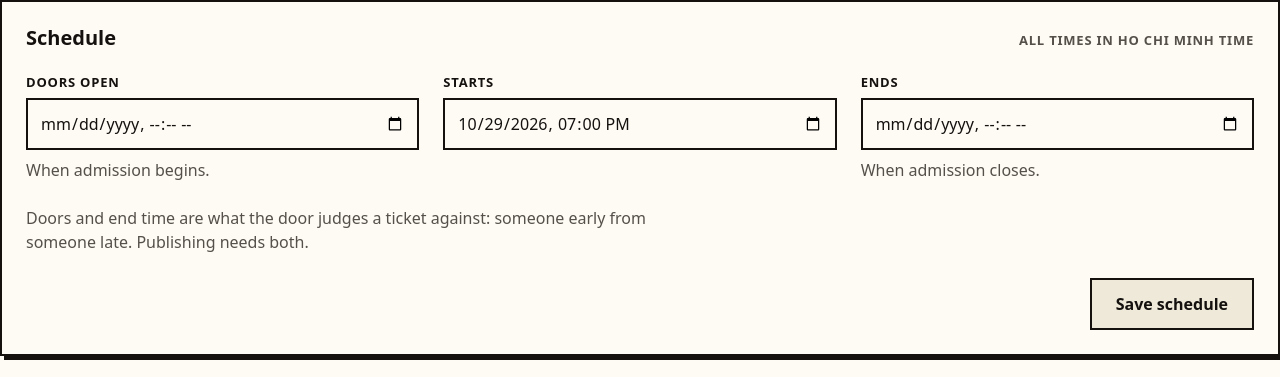
the schedule form › clears the complaint and allows the save once it is corrected
In the field labelled "Doors open When admission begins.": (223, 124) x1=26 y1=98 x2=419 y2=150, type "2026-10-29T21:00"
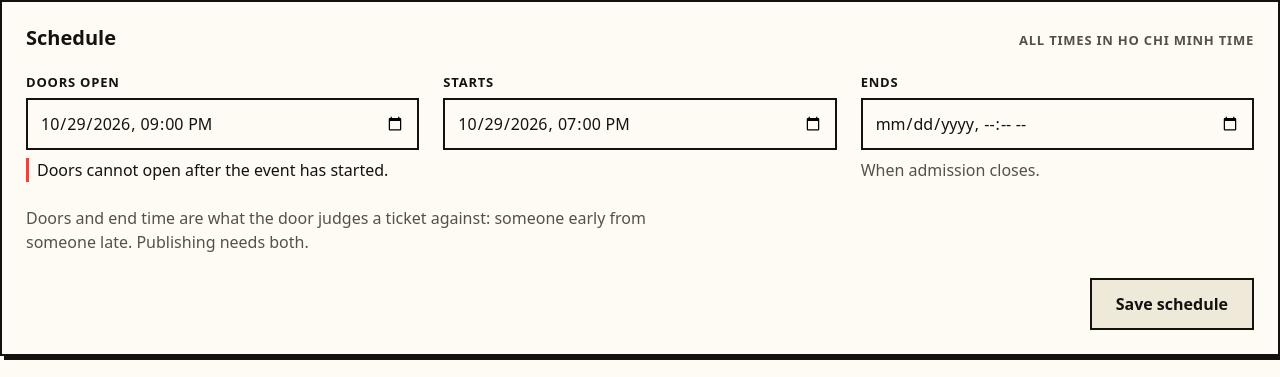
Expected: the button "Save schedule" is disabled, x1=1090 y1=278 x2=1254 y2=330
Replace the text in the field labelled "Doors open Doors cannot open after the event has started." with "2026-10-29T18:00": (223, 124) x1=26 y1=98 x2=419 y2=150
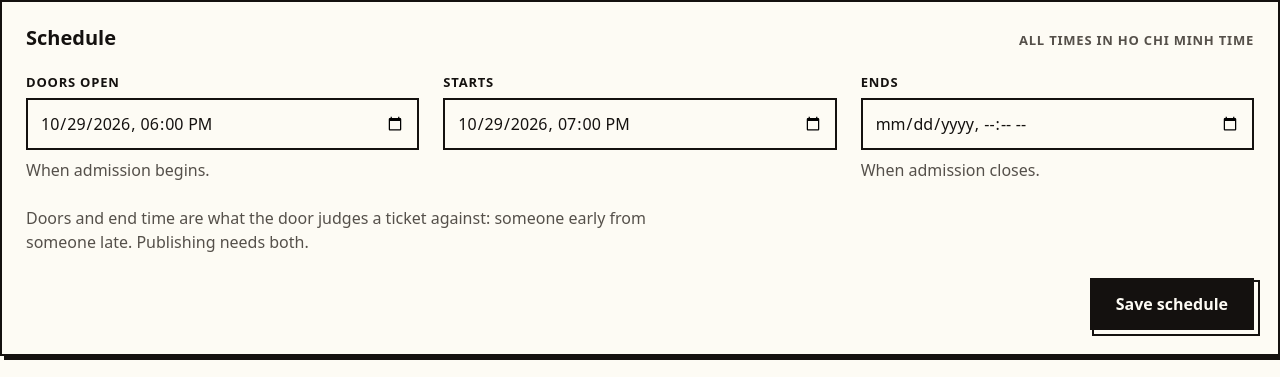
Expected: the button "Save schedule" is enabled, x1=1090 y1=278 x2=1254 y2=330
